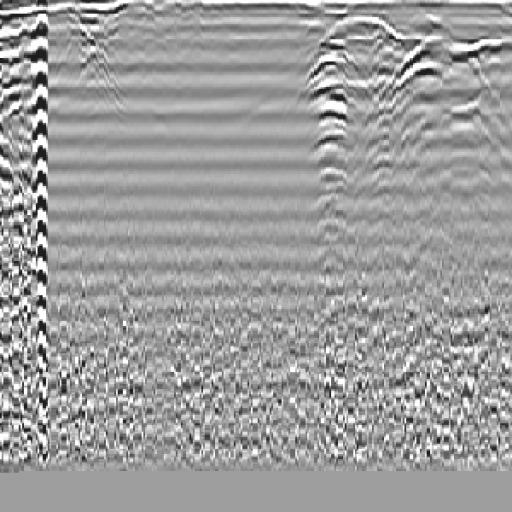metalic: (301, 21, 363, 213)
